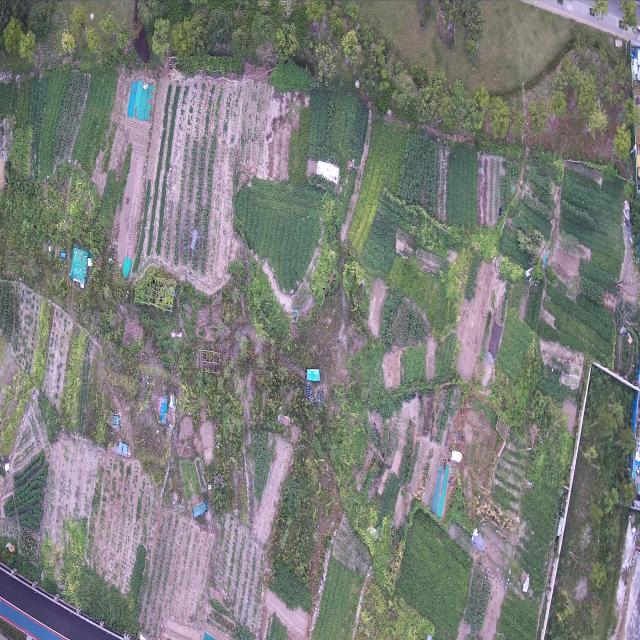UAV: (182, 223, 208, 258)
